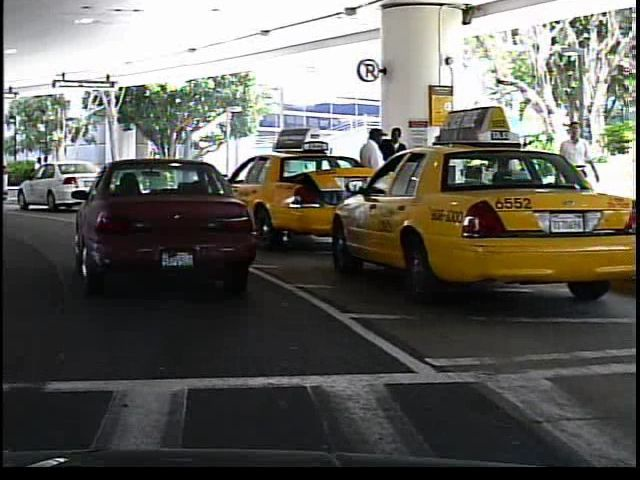person: (553, 116, 596, 232), (354, 125, 388, 230), (379, 125, 410, 225), (26, 151, 50, 194)
